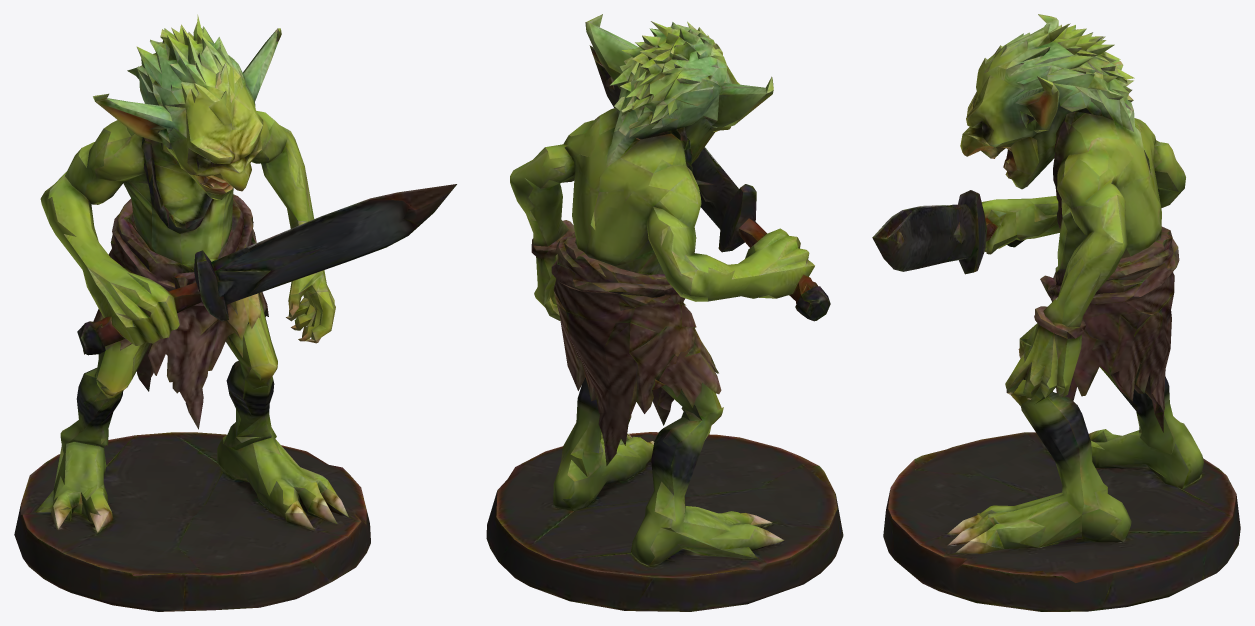
The model's file is mob_grunt.glb.
The picture shows the model from 3 angles, left to right: view 1: azimuth 30°, elevation 25°; view 2: azimuth 150°, elevation 25°; view 3: azimuth 270°, elevation 25°; orthographic projection.
Size of the model in its own units: 1.24 by 1.9 by 1.22.
Materials: 1 (1 with a texture image).
